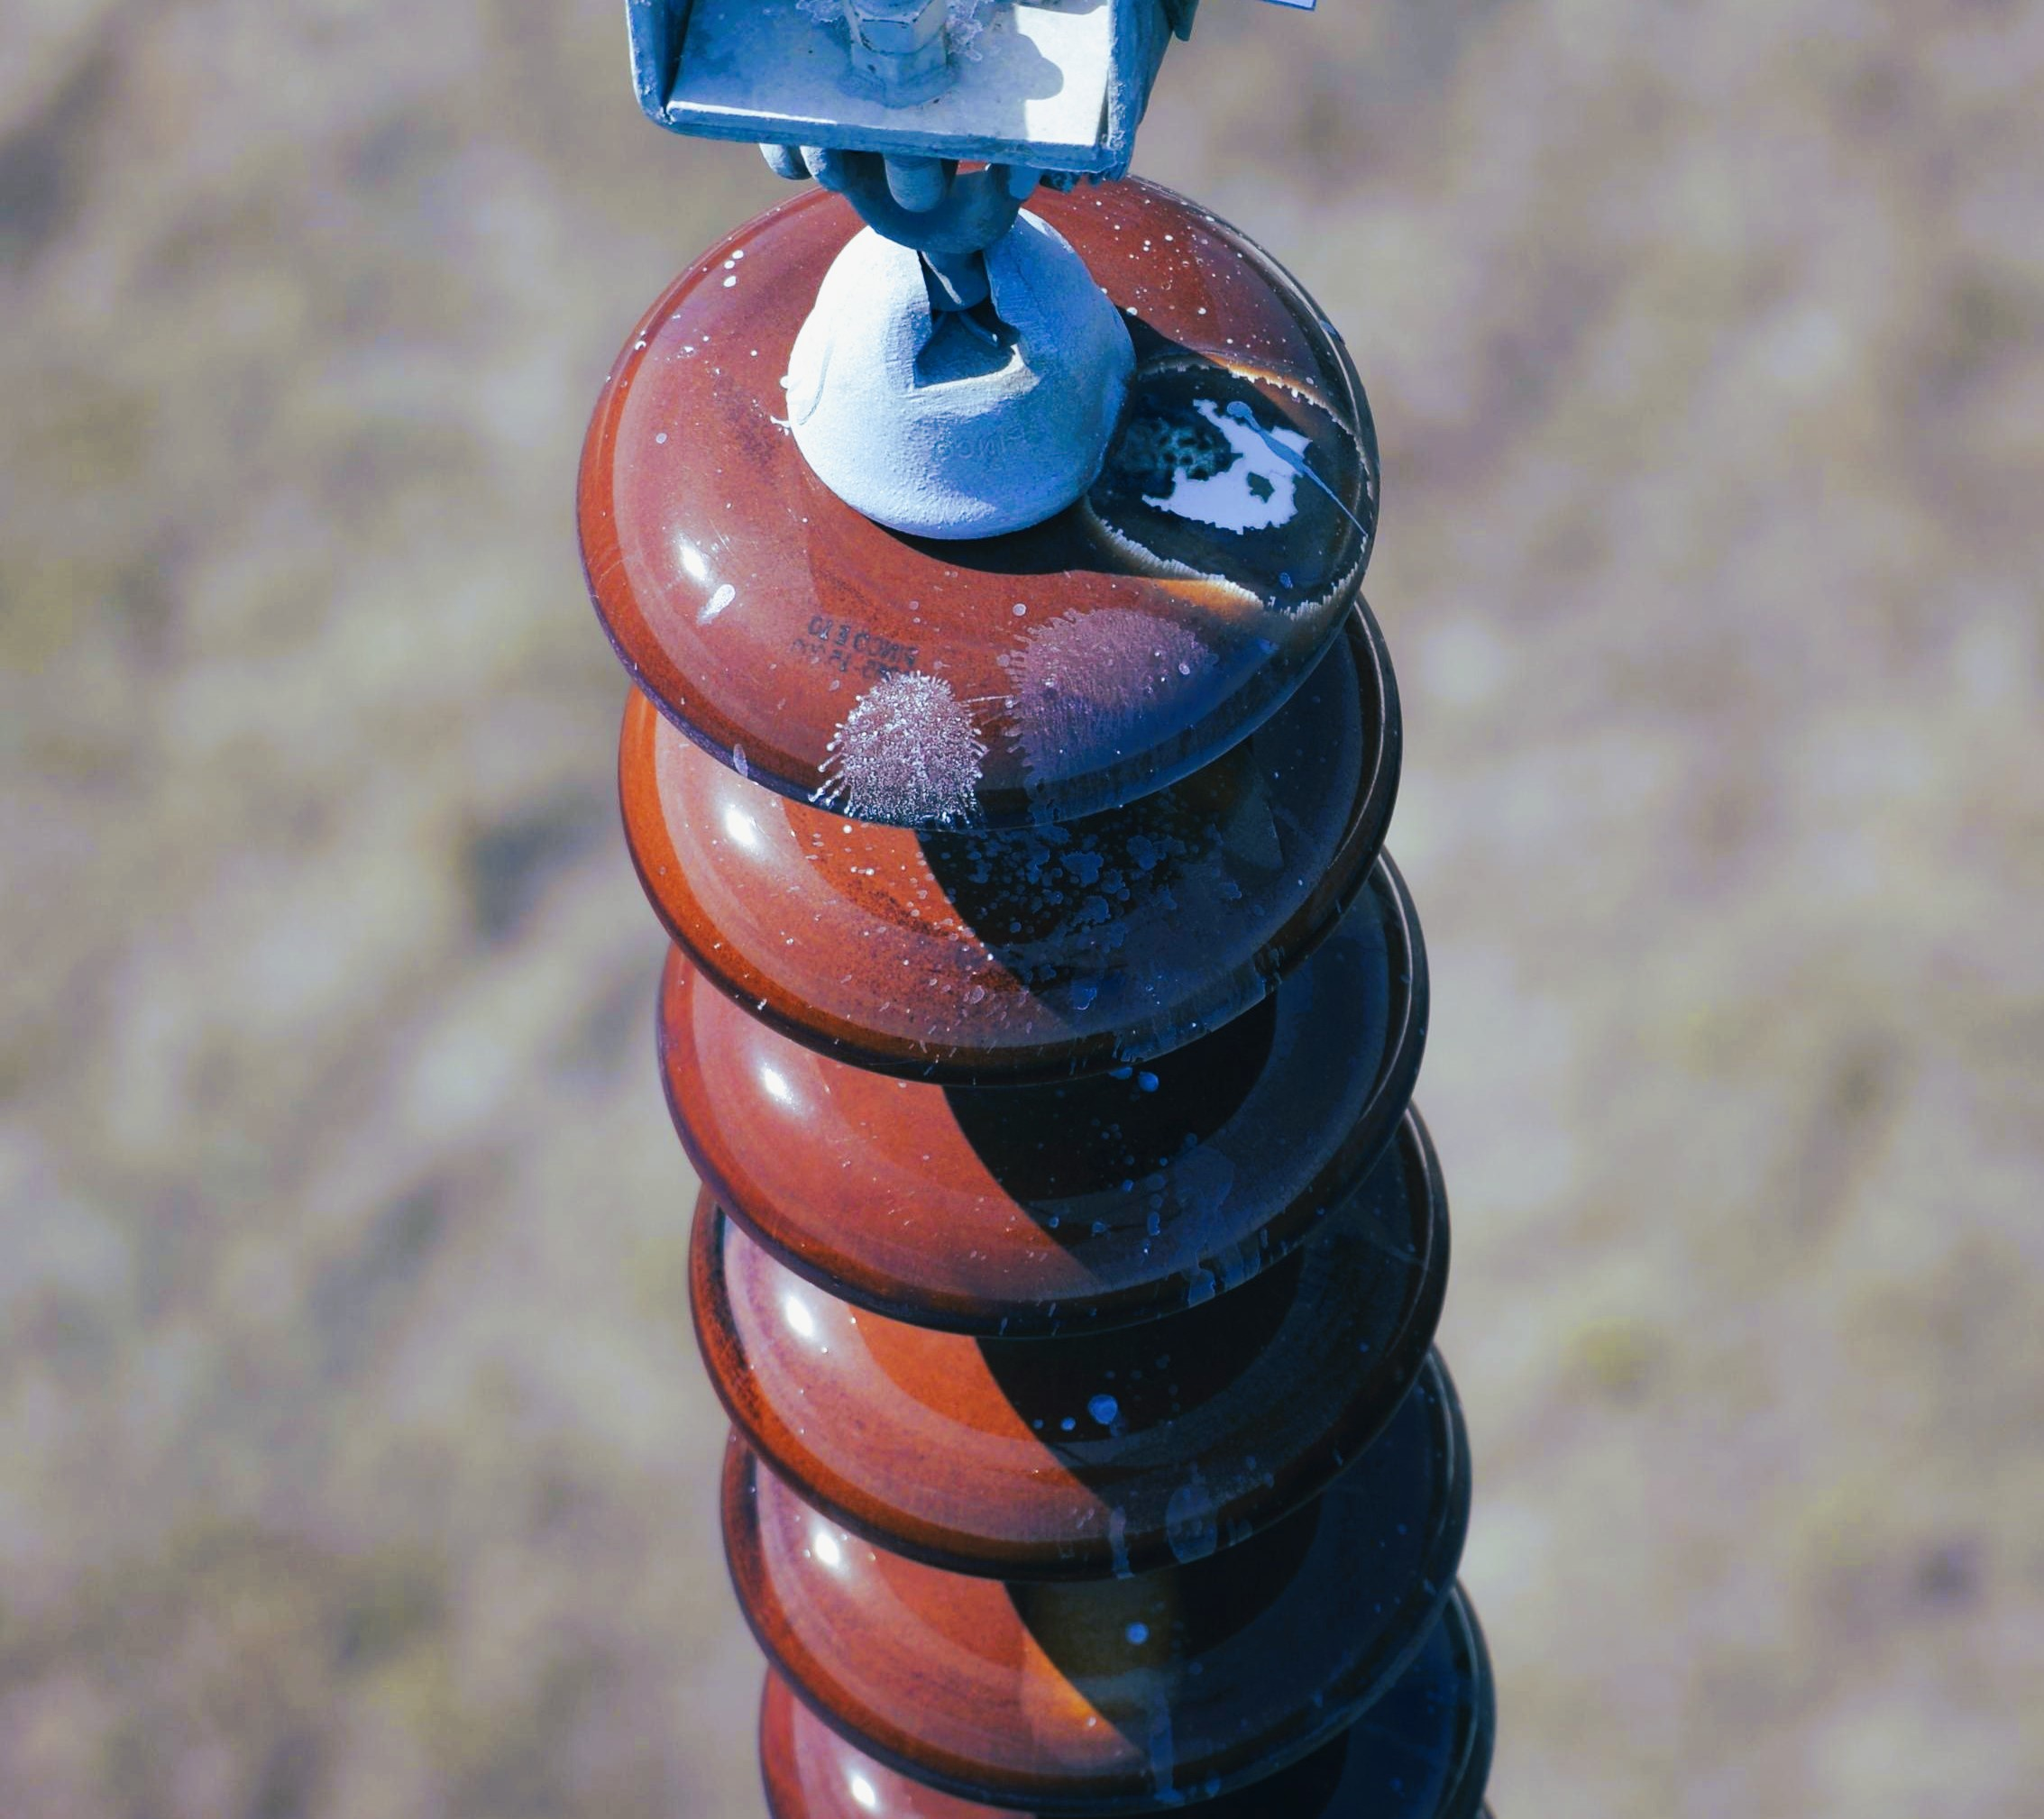Insulator flashover: (569, 155, 1401, 834)
